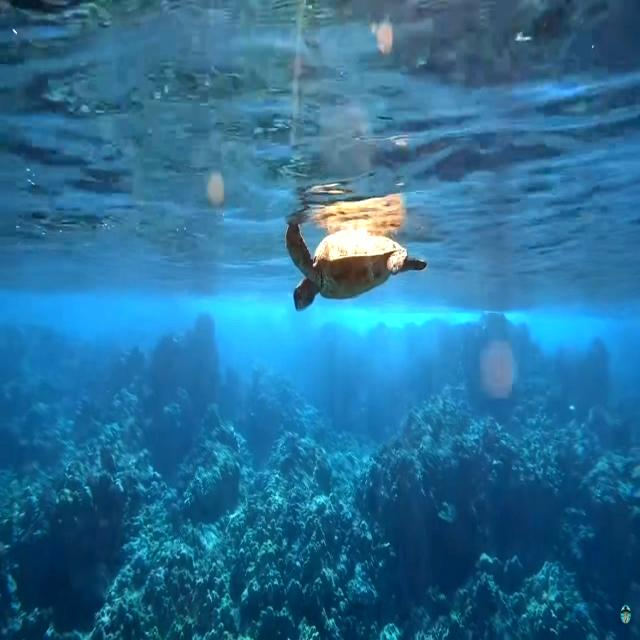Sea turtle: (285, 214, 429, 315)
